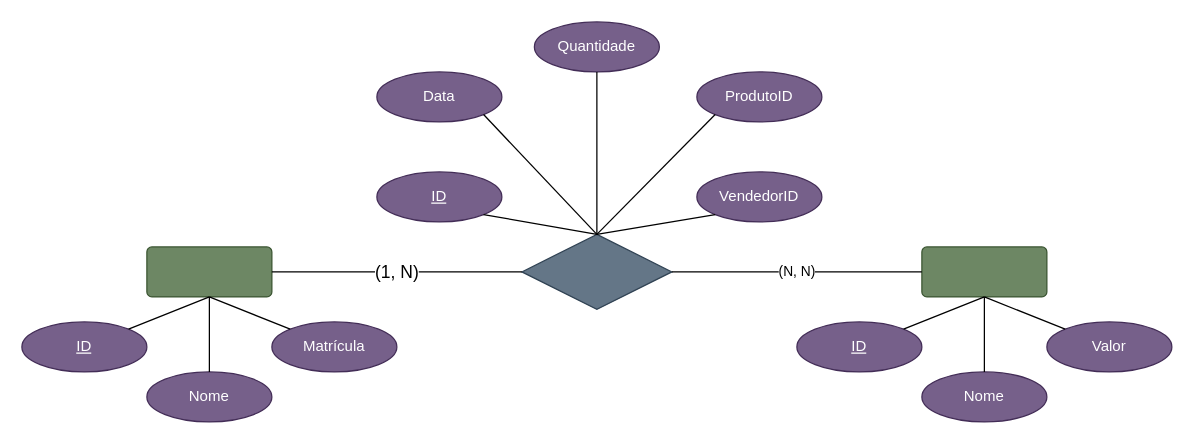
Some shapes in this 1194 by 444 pixel diagram are drawn without their labels. Here are the shapes that lost their labels. From the top down, the centre of each, then its label:
At pixel 209 271: "Vendedores".
At pixel 596 271: "Vendas".
At pixel 984 271: "Produtos".
